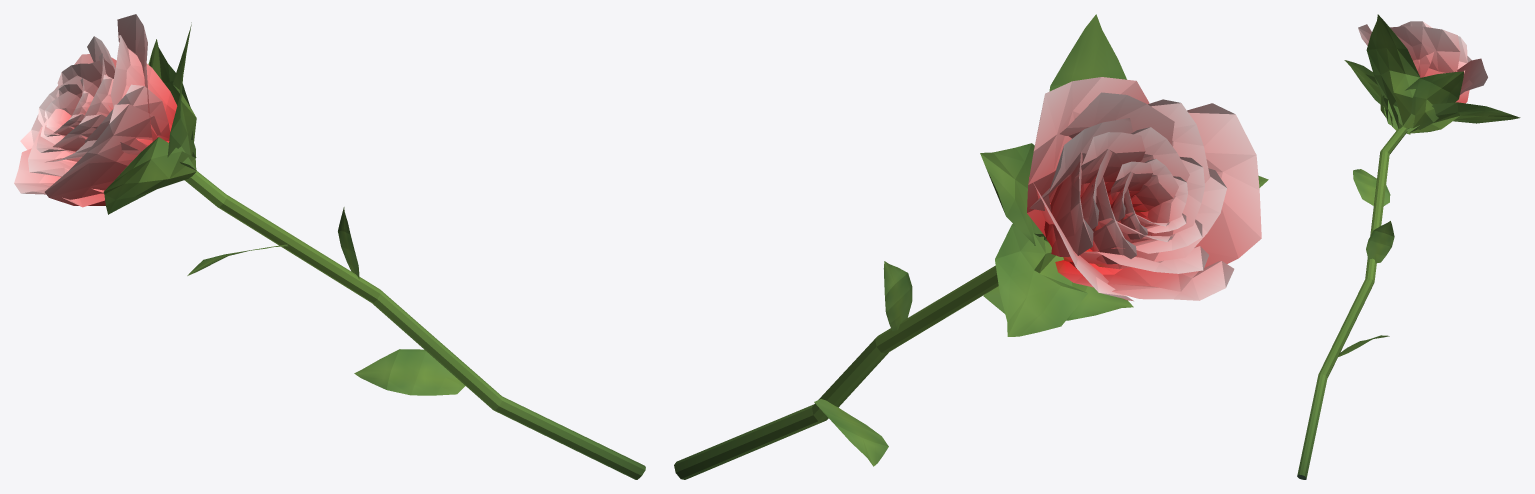
File: PINK ROSE.fbx
3 renders of one model, left to right at view 1: azimuth 30°, elevation 25°; view 2: azimuth 150°, elevation 25°; view 3: azimuth 270°, elevation 25°, orthographic. The views are drawn at different scales.
Visible parts, largest first — view 1: PINK_ROSE; view 2: PINK_ROSE; view 3: PINK_ROSE.
Part boxes in pixels (left/top/right/bottom): PINK_ROSE: left=14, top=14, right=645, bottom=479; PINK_ROSE: left=674, top=14, right=1268, bottom=479; PINK_ROSE: left=1297, top=14, right=1520, bottom=479.
Bounding box in the file's own units: 24.54 × 22.33 × 13.31.
